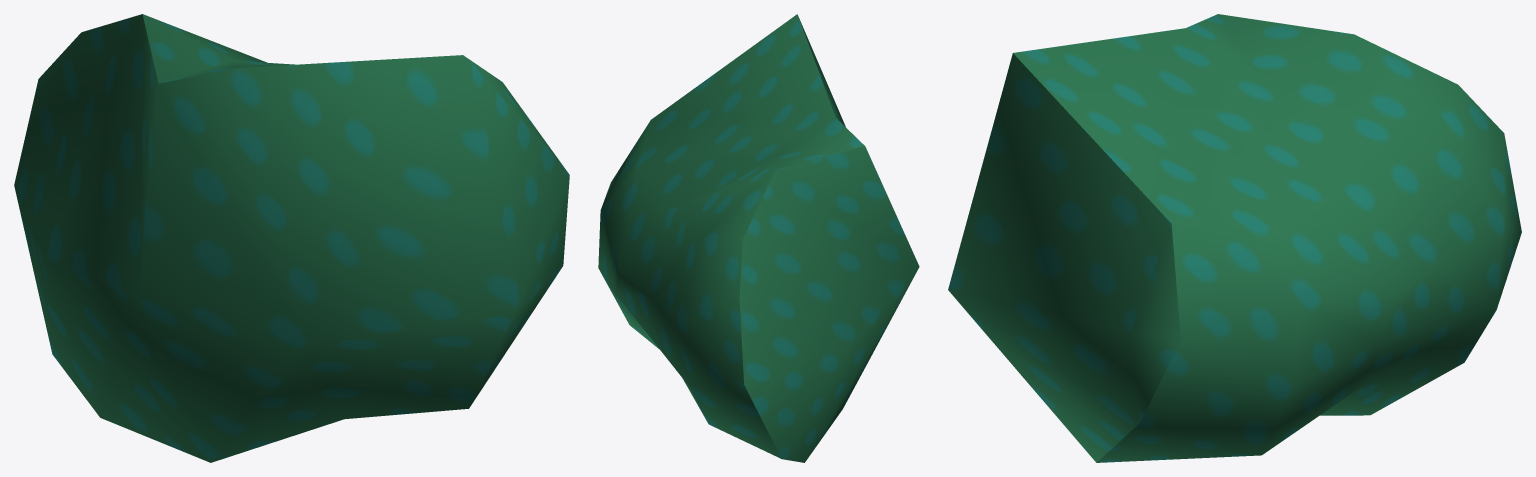
The model's file is Copa3.fbx.
3 views of the same model, side by side, from view 1: azimuth 30°, elevation 25°; view 2: azimuth 150°, elevation 25°; view 3: azimuth 270°, elevation 25° (orthographic). The views are drawn at different scales.
Parts seen in each view (by area): view 1: Copa_3; view 2: Copa_3; view 3: Copa_3.
Boxes of the visible parts, x1,y1,x2,y2 form: Copa_3: [14, 14, 569, 462]; Copa_3: [598, 14, 919, 462]; Copa_3: [948, 14, 1521, 462].
Bounding box in the file's own units: 48.64 × 49.65 × 59.41.
1 material, 1 textured.
